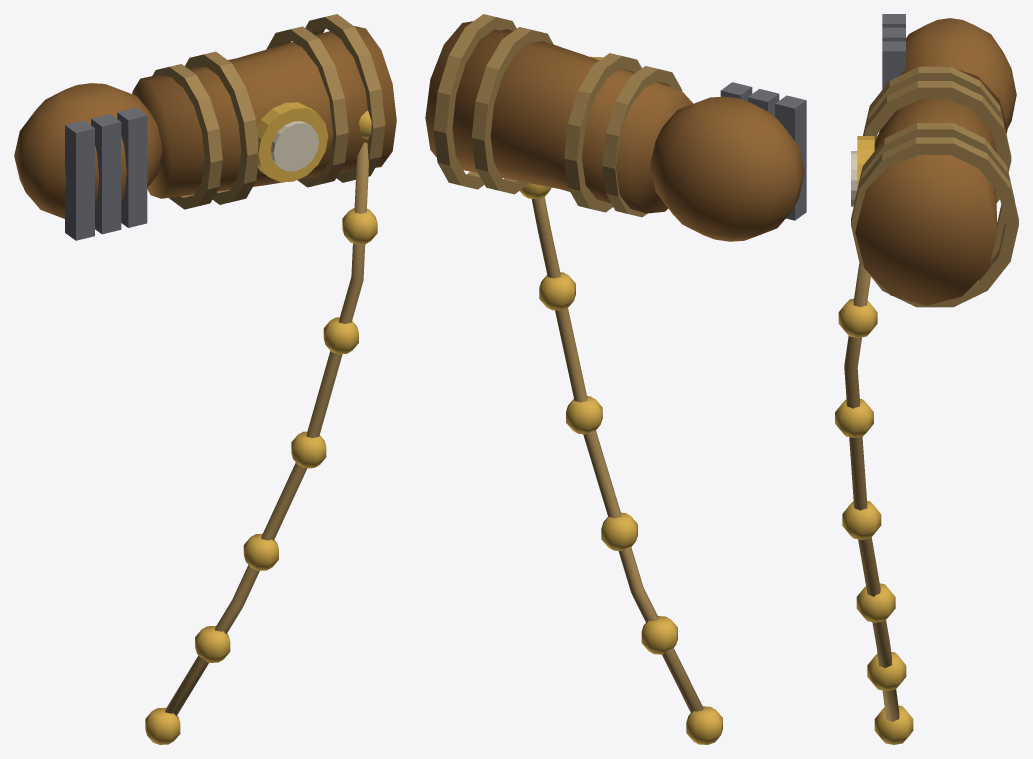
The model's file is tally_awakened.glb.
3 renders of one model, left to right at view 1: azimuth 30°, elevation 25°; view 2: azimuth 150°, elevation 25°; view 3: azimuth 270°, elevation 25°, orthographic. The views are drawn at different scales.
Parts seen in each view (by area): view 1: TallyAwakened; view 2: TallyAwakened; view 3: TallyAwakened.
Boxes of the visible parts, left/top/right/bottom form: TallyAwakened: left=14, top=14, right=396, bottom=744; TallyAwakened: left=425, top=14, right=806, bottom=744; TallyAwakened: left=835, top=14, right=1018, bottom=744.
Size of the model in its own units: 0.3855 by 0.7192 by 0.1707.
